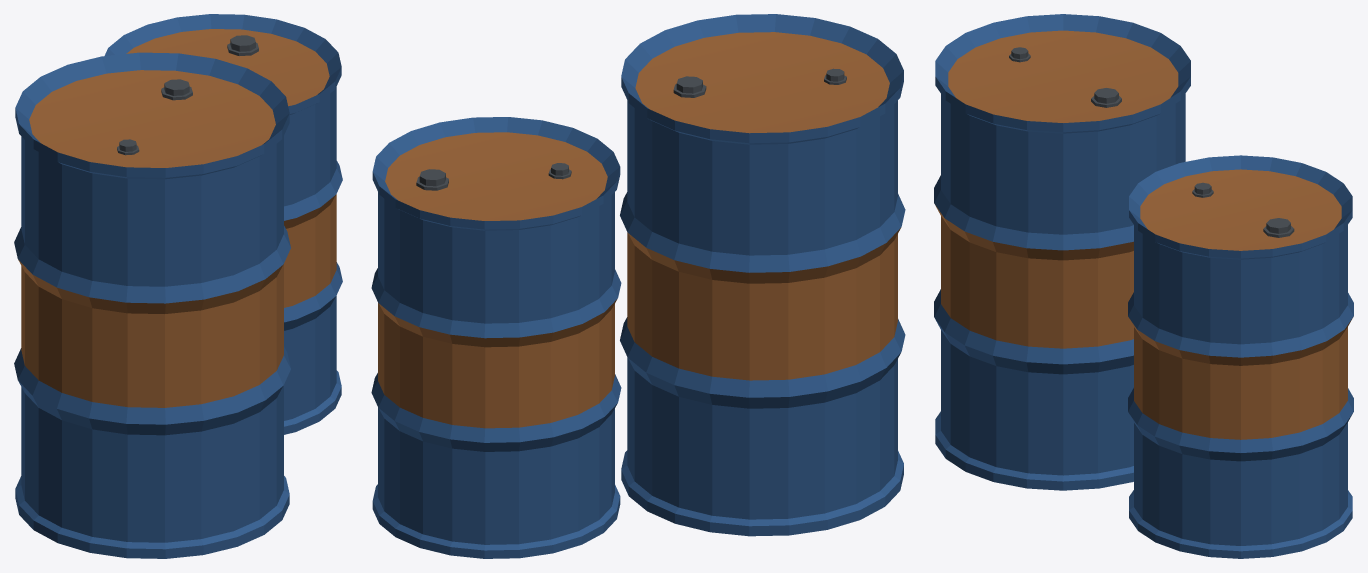
The model's file is clark q1 barrels.fbx.
3 views of the same model, side by side, from view 1: azimuth 30°, elevation 25°; view 2: azimuth 150°, elevation 25°; view 3: azimuth 270°, elevation 25° (orthographic). The views are drawn at different scales.
Parts seen in each view (by area): view 1: Barrel_Tall_Bung_Small_Rim_Barrel_Tall_Bung_Small_Rim_Mesh, Barrel_Tall_Bung_Small_Rim_Barrel_Tall_Bung_Small_Rim_Mesh.0; view 2: Barrel_Tall_Bung_Small_Rim_Barrel_Tall_Bung_Small_Rim_Mesh, Barrel_Tall_Bung_Small_Rim_Barrel_Tall_Bung_Small_Rim_Mesh.0; view 3: Barrel_Tall_Bung_Small_Rim_Barrel_Tall_Bung_Small_Rim_Mesh, Barrel_Tall_Bung_Small_Rim_Barrel_Tall_Bung_Small_Rim_Mesh.0.
Part boxes in pixels (box(x1,y1,x2,y2)): Barrel_Tall_Bung_Small_Rim_Barrel_Tall_Bung_Small_Rim_Mesh: box(14, 52, 290, 558); Barrel_Tall_Bung_Small_Rim_Barrel_Tall_Bung_Small_Rim_Mesh.0: box(104, 14, 342, 434); Barrel_Tall_Bung_Small_Rim_Barrel_Tall_Bung_Small_Rim_Mesh: box(620, 14, 905, 536); Barrel_Tall_Bung_Small_Rim_Barrel_Tall_Bung_Small_Rim_Mesh.0: box(371, 117, 621, 558); Barrel_Tall_Bung_Small_Rim_Barrel_Tall_Bung_Small_Rim_Mesh: box(934, 14, 1190, 490); Barrel_Tall_Bung_Small_Rim_Barrel_Tall_Bung_Small_Rim_Mesh.0: box(1128, 155, 1353, 558).
Size of the model in its own units: 109 by 105 by 109.
